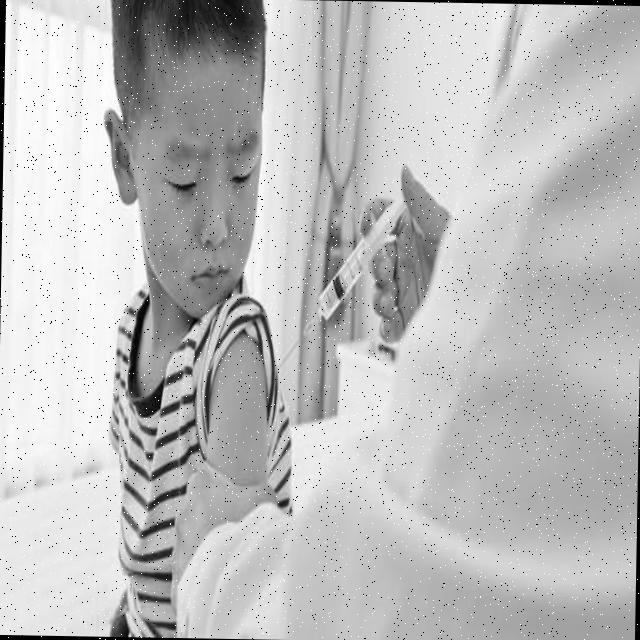Fear: (144, 32, 264, 314)
